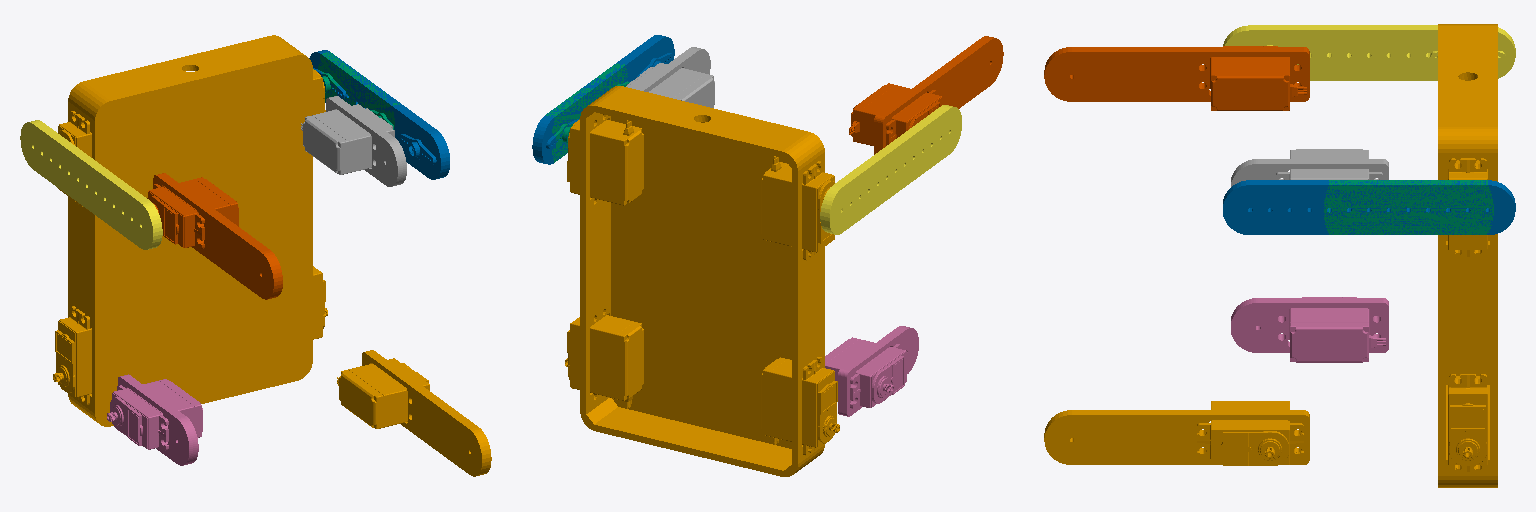
The robot description file, URDF, robot "crawly2":
<?xml version="1.0" ?>
<robot name="crawly2">

<material name="black">
  <color rgba="0.035 0.012 0.329 1.000"/>
</material>

<material name="green">
  <color rgba="0.043 0.549 0.09 1.000"/>
</material>

<material name="red">
  <color rgba="0.8 0.102 0.102 1.000"/>
</material>

<material name="silver">
  <color rgba="0.700 0.700 0.700 1.000"/>
</material>

<link name="base_link">
  <inertial>
    <origin xyz="4.450311950833269e-16 0.01206888961783032 -8.8091820405535e-05" rpy="0 0 0"/>
    <mass value="0.37046418538360243"/>
    <inertia ixx="0.0015254839799976076" iyy="0.0027083056246376474" izz="0.0012316925730137542" ixy="-2.750798386321724e-19" iyz="9.565639010528972e-08" ixz="-2.0309400422891224e-17"/>
  </inertial>
  <visual>
    <origin xyz="0 0 0" rpy="0 0 0"/>
    <geometry>
      <mesh filename="meshes/base_link.stl" scale="0.001 0.001 0.001"/>
    </geometry>
    <material name="black"/>
    <material/>
  </visual>
  <collision>
    <origin xyz="0 0 0" rpy="0 0 0"/>
    <geometry>
      <mesh filename="meshes/base_link.stl" scale="0.001 0.001 0.001"/>
    </geometry>
  </collision>
</link>

<link name="L1_BL1">
  <inertial>
    <origin xyz="0.004791729434917569 -0.05000000000000002 6.342149028171207e-15" rpy="0 0 0"/>
    <mass value="0.026073176545293626"/>
    <inertia ixx="4.683302544111615e-05" iyy="1.6951390719232651e-06" izz="4.5337604129440867e-05" ixy="1.3552527156068805e-20" iyz="-1.3552527156068805e-20" ixz="4.87890977618477e-19"/>
  </inertial>
  <visual>
    <origin xyz="-0.0875 -0.015 0.07" rpy="0 0 0"/>
    <geometry>
      <mesh filename="meshes/L1_BL1.stl" scale="0.001 0.001 0.001"/>
    </geometry>
    <material name="green"/>
    <material/>
  </visual>
  <collision>
    <origin xyz="-0.0875 -0.015 0.07" rpy="0 0 0"/>
    <geometry>
      <mesh filename="meshes/L1_BL1.stl" scale="0.001 0.001 0.001"/>
    </geometry>
  </collision>
</link>

<link name="L1_BR1">
  <inertial>
    <origin xyz="-0.004791729434917569 -0.05000000000000002 -6.300515664747763e-15" rpy="0 0 0"/>
    <mass value="0.026073176545293626"/>
    <inertia ixx="4.6833025441116204e-05" iyy="1.695139071923211e-06" izz="4.5337604129440867e-05" ixy="-1.3552527156068805e-20" iyz="-2.710505431213761e-20" ixz="4.607859233063394e-19"/>
  </inertial>
  <visual>
    <origin xyz="0.0875 -0.015 0.07" rpy="0 0 0"/>
    <geometry>
      <mesh filename="meshes/L1_BR1.stl" scale="0.001 0.001 0.001"/>
    </geometry>
    <material name="green"/>
    <material/>
  </visual>
  <collision>
    <origin xyz="0.0875 -0.015 0.07" rpy="0 0 0"/>
    <geometry>
      <mesh filename="meshes/L1_BR1.stl" scale="0.001 0.001 0.001"/>
    </geometry>
  </collision>
</link>

<link name="L1_FR1">
  <inertial>
    <origin xyz="-0.004791729434917569 -0.05000000000000002 -6.369904603786836e-15" rpy="0 0 0"/>
    <mass value="0.026073176545293626"/>
    <inertia ixx="4.6833025441116204e-05" iyy="1.6951390719232651e-06" izz="4.5337604129440867e-05" ixy="-1.3552527156068805e-20" iyz="0.0" ixz="5.421010862427522e-19"/>
  </inertial>
  <visual>
    <origin xyz="0.0875 -0.015 -0.07" rpy="0 0 0"/>
    <geometry>
      <mesh filename="meshes/L1_FR1.stl" scale="0.001 0.001 0.001"/>
    </geometry>
    <material name="green"/>
    <material/>
  </visual>
  <collision>
    <origin xyz="0.0875 -0.015 -0.07" rpy="0 0 0"/>
    <geometry>
      <mesh filename="meshes/L1_FR1.stl" scale="0.001 0.001 0.001"/>
    </geometry>
  </collision>
</link>

<link name="L1_FL1">
  <inertial>
    <origin xyz="0.004791729434917569 -0.05000000000000002 6.2727600891321345e-15" rpy="0 0 0"/>
    <mass value="0.026073176545293626"/>
    <inertia ixx="4.6833025441116204e-05" iyy="1.695139071923211e-06" izz="4.5337604129440867e-05" ixy="1.3552527156068805e-20" iyz="0.0" ixz="3.7947076036992655e-19"/>
  </inertial>
  <visual>
    <origin xyz="-0.0875 -0.015 -0.07" rpy="0 0 0"/>
    <geometry>
      <mesh filename="meshes/L1_FL1.stl" scale="0.001 0.001 0.001"/>
    </geometry>
    <material name="green"/>
    <material/>
  </visual>
  <collision>
    <origin xyz="-0.0875 -0.015 -0.07" rpy="0 0 0"/>
    <geometry>
      <mesh filename="meshes/L1_FL1.stl" scale="0.001 0.001 0.001"/>
    </geometry>
  </collision>
</link>

<link name="L2_FR1">
  <inertial>
    <origin xyz="0.024243020603580356 -0.021200077196389333 4.128034769707023e-07" rpy="0 0 0"/>
    <mass value="0.072990131570421"/>
    <inertia ixx="6.323740025535821e-05" iyy="1.0114182424232057e-05" izz="6.720909302869709e-05" ixy="-3.047088673404177e-06" iyz="-6.195241004230967e-10" ixz="6.041331493226998e-10"/>
  </inertial>
  <visual>
    <origin xyz="0.0875 0.085 -0.07" rpy="0 0 0"/>
    <geometry>
      <mesh filename="meshes/L2_FR1.stl" scale="0.001 0.001 0.001"/>
    </geometry>
    <material name="red"/>
    <material/>
  </visual>
  <collision>
    <origin xyz="0.0875 0.085 -0.07" rpy="0 0 0"/>
    <geometry>
      <mesh filename="meshes/L2_FR1.stl" scale="0.001 0.001 0.001"/>
    </geometry>
  </collision>
</link>

<link name="L2_FL1">
  <inertial>
    <origin xyz="-0.024243020603580356 -0.021200077196389333 -4.1280347701233566e-07" rpy="0 0 0"/>
    <mass value="0.072990131570421"/>
    <inertia ixx="6.3237400255358e-05" iyy="1.0114182424232165e-05" izz="6.720909302869709e-05" ixy="3.047088673404177e-06" iyz="6.195241003146765e-10" ixz="6.041331492142796e-10"/>
  </inertial>
  <visual>
    <origin xyz="-0.0875 0.085 -0.07" rpy="0 0 0"/>
    <geometry>
      <mesh filename="meshes/L2_FL1.stl" scale="0.001 0.001 0.001"/>
    </geometry>
    <material name="red"/>
    <material/>
  </visual>
  <collision>
    <origin xyz="-0.0875 0.085 -0.07" rpy="0 0 0"/>
    <geometry>
      <mesh filename="meshes/L2_FL1.stl" scale="0.001 0.001 0.001"/>
    </geometry>
  </collision>
</link>

<link name="L2_BR1">
  <inertial>
    <origin xyz="0.024243020603580356 -0.021200077196389333 4.128034769984579e-07" rpy="0 0 0"/>
    <mass value="0.072990131570421"/>
    <inertia ixx="6.323740025535821e-05" iyy="1.0114182424231948e-05" izz="6.720909302869709e-05" ixy="-3.047088673404177e-06" iyz="-6.195241004230967e-10" ixz="6.041331493226998e-10"/>
  </inertial>
  <visual>
    <origin xyz="0.0875 0.085 0.07" rpy="0 0 0"/>
    <geometry>
      <mesh filename="meshes/L2_BR1.stl" scale="0.001 0.001 0.001"/>
    </geometry>
    <material name="red"/>
    <material/>
  </visual>
  <collision>
    <origin xyz="0.0875 0.085 0.07" rpy="0 0 0"/>
    <geometry>
      <mesh filename="meshes/L2_BR1.stl" scale="0.001 0.001 0.001"/>
    </geometry>
  </collision>
</link>

<link name="L2_BL1">
  <inertial>
    <origin xyz="-0.024243020603580356 -0.021200077196389305 -4.128034769707023e-07" rpy="0 0 0"/>
    <mass value="0.072990131570421"/>
    <inertia ixx="6.323740025535821e-05" iyy="1.0114182424232274e-05" izz="6.720909302869644e-05" ixy="3.047088673404177e-06" iyz="6.195241004230967e-10" ixz="6.041331493769099e-10"/>
  </inertial>
  <visual>
    <origin xyz="-0.0875 0.085 0.07" rpy="0 0 0"/>
    <geometry>
      <mesh filename="meshes/L2_BL1.stl" scale="0.001 0.001 0.001"/>
    </geometry>
    <material name="red"/>
    <material/>
  </visual>
  <collision>
    <origin xyz="-0.0875 0.085 0.07" rpy="0 0 0"/>
    <geometry>
      <mesh filename="meshes/L2_BL1.stl" scale="0.001 0.001 0.001"/>
    </geometry>
  </collision>
</link>

<joint name="th_4" type="continuous">
  <origin xyz="0.0875 0.015 -0.07" rpy="0 0 0"/>
  <parent link="base_link"/>
  <child link="L1_BL1"/>
  <axis xyz="-1.0 0.0 0.0"/>
</joint>
<transmission name="th_4_tran">
  <type>transmission_interface/SimpleTransmission</type>
  <joint name="th_4">
    <hardwareInterface>PositionJointInterface</hardwareInterface>
  </joint>
  <actuator name="th_4_actr">
    <hardwareInterface>PositionJointInterface</hardwareInterface>
    <mechanicalReduction>1</mechanicalReduction>
  </actuator>
</transmission>

<joint name="th_3" type="continuous">
  <origin xyz="-0.0875 0.015 -0.07" rpy="0 0 0"/>
  <parent link="base_link"/>
  <child link="L1_BR1"/>
  <axis xyz="1.0 0.0 0.0"/>
</joint>
<transmission name="th_3_tran">
  <type>transmission_interface/SimpleTransmission</type>
  <joint name="th_3">
    <hardwareInterface>PositionJointInterface</hardwareInterface>
  </joint>
  <actuator name="th_3_actr">
    <hardwareInterface>PositionJointInterface</hardwareInterface>
    <mechanicalReduction>1</mechanicalReduction>
  </actuator>
</transmission>

<joint name="th_2" type="continuous">
  <origin xyz="-0.0875 0.015 0.07" rpy="0 0 0"/>
  <parent link="base_link"/>
  <child link="L1_FR1"/>
  <axis xyz="1.0 0.0 0.0"/>
</joint>
<transmission name="th_2_tran">
  <type>transmission_interface/SimpleTransmission</type>
  <joint name="th_2">
    <hardwareInterface>PositionJointInterface</hardwareInterface>
  </joint>
  <actuator name="th_2_actr">
    <hardwareInterface>PositionJointInterface</hardwareInterface>
    <mechanicalReduction>1</mechanicalReduction>
  </actuator>
</transmission>

<joint name="th_1" type="continuous">
  <origin xyz="0.0875 0.015 0.07" rpy="0 0 0"/>
  <parent link="base_link"/>
  <child link="L1_FL1"/>
  <axis xyz="-1.0 0.0 0.0"/>
</joint>
<transmission name="th_1_tran">
  <type>transmission_interface/SimpleTransmission</type>
  <joint name="th_1">
    <hardwareInterface>PositionJointInterface</hardwareInterface>
  </joint>
  <actuator name="th_1_actr">
    <hardwareInterface>PositionJointInterface</hardwareInterface>
    <mechanicalReduction>1</mechanicalReduction>
  </actuator>
</transmission>

<joint name="th_6" type="continuous">
  <origin xyz="0.0 -0.1 0.0" rpy="0 0 0"/>
  <parent link="L1_FR1"/>
  <child link="L2_FR1"/>
  <axis xyz="1.0 -0.0 -0.0"/>
</joint>
<transmission name="th_6_tran">
  <type>transmission_interface/SimpleTransmission</type>
  <joint name="th_6">
    <hardwareInterface>PositionJointInterface</hardwareInterface>
  </joint>
  <actuator name="th_6_actr">
    <hardwareInterface>PositionJointInterface</hardwareInterface>
    <mechanicalReduction>1</mechanicalReduction>
  </actuator>
</transmission>

<joint name="th_5" type="continuous">
  <origin xyz="0.0 -0.1 0.0" rpy="0 0 0"/>
  <parent link="L1_FL1"/>
  <child link="L2_FL1"/>
  <axis xyz="-1.0 -0.0 0.0"/>
</joint>
<transmission name="th_5_tran">
  <type>transmission_interface/SimpleTransmission</type>
  <joint name="th_5">
    <hardwareInterface>PositionJointInterface</hardwareInterface>
  </joint>
  <actuator name="th_5_actr">
    <hardwareInterface>PositionJointInterface</hardwareInterface>
    <mechanicalReduction>1</mechanicalReduction>
  </actuator>
</transmission>

<joint name="th_7" type="continuous">
  <origin xyz="0.0 -0.1 0.0" rpy="0 0 0"/>
  <parent link="L1_BR1"/>
  <child link="L2_BR1"/>
  <axis xyz="1.0 -0.0 -0.0"/>
</joint>
<transmission name="th_7_tran">
  <type>transmission_interface/SimpleTransmission</type>
  <joint name="th_7">
    <hardwareInterface>PositionJointInterface</hardwareInterface>
  </joint>
  <actuator name="th_7_actr">
    <hardwareInterface>PositionJointInterface</hardwareInterface>
    <mechanicalReduction>1</mechanicalReduction>
  </actuator>
</transmission>

<joint name="th_8" type="continuous">
  <origin xyz="0.0 -0.1 0.0" rpy="0 0 0"/>
  <parent link="L1_BL1"/>
  <child link="L2_BL1"/>
  <axis xyz="-1.0 -0.0 0.0"/>
</joint>
<transmission name="th_8_tran">
  <type>transmission_interface/SimpleTransmission</type>
  <joint name="th_8">
    <hardwareInterface>PositionJointInterface</hardwareInterface>
  </joint>
  <actuator name="th_8_actr">
    <hardwareInterface>PositionJointInterface</hardwareInterface>
    <mechanicalReduction>1</mechanicalReduction>
  </actuator>
</transmission>

</robot>

--- What the picture shows (computed from the rendered views, not written in the file) ---
Views: 3 orthographic renders of the robot side by side, from view 1: azimuth 30°, elevation 25°; view 2: azimuth 150°, elevation 25°; view 3: azimuth 270°, elevation 25°.
Robot: crawly2 — 9 links, 8 joints (8 continuous); root link base_link; default pose: every joint at zero.
Links seen in each view (by area): view 1: base_link, L2_BL1, L2_FR1, L1_FR1, L2_BR1, L2_FL1, L1_FL1, L1_BR1; view 2: base_link, L1_FR1, L2_FR1, L2_FL1, L2_BR1, L1_FL1, L1_BR1; view 3: base_link, L2_FR1, L2_BL1, L1_FR1, L2_FL1, L1_FL1, L1_BR1, L2_BR1.
Link boxes in pixels (<box>): base_link: <box>53,35,327,426</box>; L2_BL1: <box>337,350,491,476</box>; L2_FR1: <box>147,173,282,299</box>; L1_FR1: <box>20,120,162,249</box>; L2_BR1: <box>301,96,406,186</box>; L2_FL1: <box>107,374,202,465</box>; L1_FL1: <box>309,50,449,179</box>; L1_BR1: <box>318,52,399,129</box>; base_link: <box>565,86,839,476</box>; L1_FR1: <box>820,105,961,234</box>; L2_FR1: <box>849,36,1003,154</box>; L2_FL1: <box>825,326,918,416</box>; L2_BR1: <box>626,47,714,107</box>; L1_FL1: <box>532,35,674,164</box>; L1_BR1: <box>546,63,629,162</box>; base_link: <box>1438,24,1497,487</box>; L2_FR1: <box>1044,46,1309,110</box>; L2_BL1: <box>1044,401,1309,465</box>; L1_FR1: <box>1223,25,1515,80</box>; L2_FL1: <box>1231,297,1388,362</box>; L1_FL1: <box>1223,180,1515,234</box>; L1_BR1: <box>1324,180,1493,234</box>; L2_BR1: <box>1231,149,1388,186</box>.
Size in the robot's own frame: 0.191 by 0.2379 by 0.2 metres.
8 mesh visuals loaded from 9 distinct referenced files (8 binary STL); not drawn: 1 (reference not matched to a file when rendering).